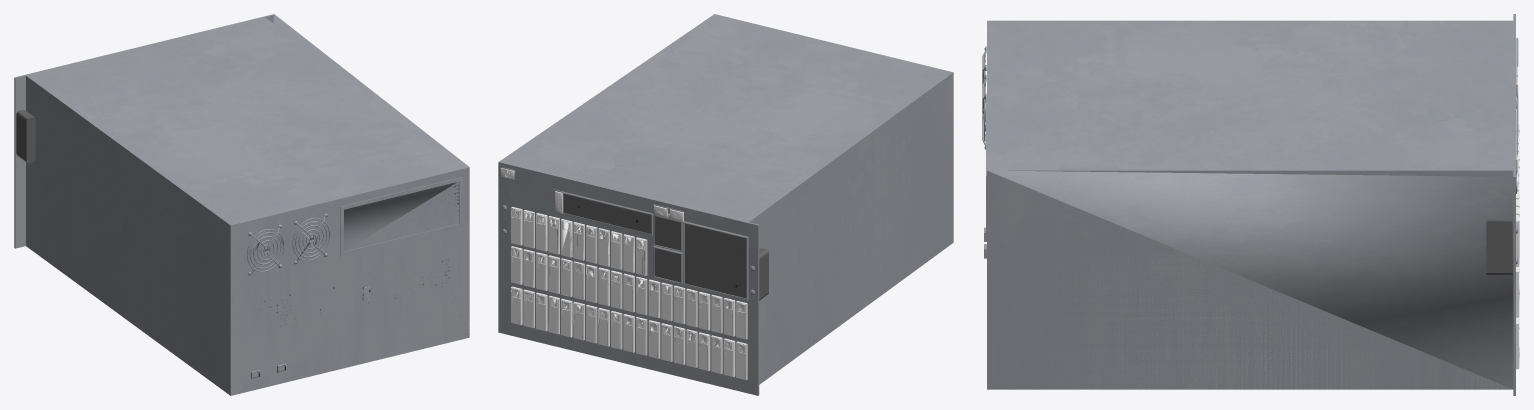
The model's file is Server.RISC.7u.glb.
3 renders of one model, left to right at view 1: azimuth 30°, elevation 25°; view 2: azimuth 150°, elevation 25°; view 3: azimuth 270°, elevation 25°, orthographic. The views are drawn at different scales.
Parts seen in each view (by area): view 1: Server.Blue2; view 2: Server.Blue2; view 3: Server.Blue2.
Boxes of the visible parts, x1,y1,x2,y2 form: Server.Blue2: (14,14,469,395); Server.Blue2: (498,14,953,395); Server.Blue2: (982,14,1519,395).
Size of what is drawn, in the model's own units: 0.4961 by 0.3107 by 0.6912.
Materials: 8 (3 with a texture image).
